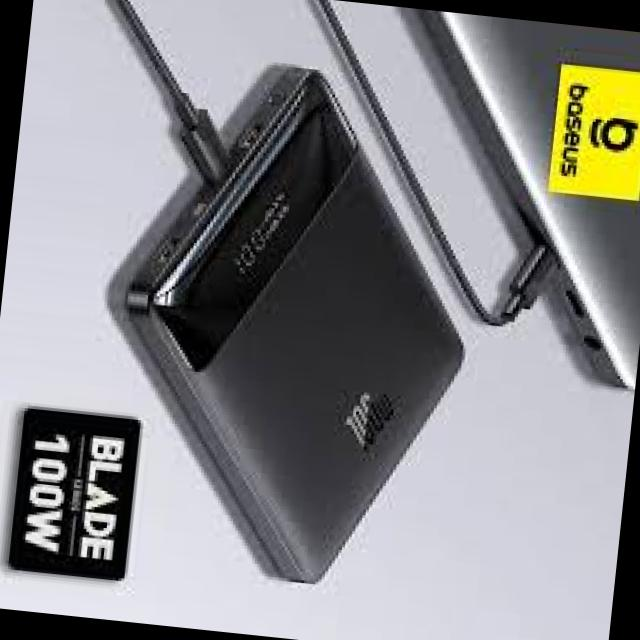power_bank: (80, 42, 496, 599)
